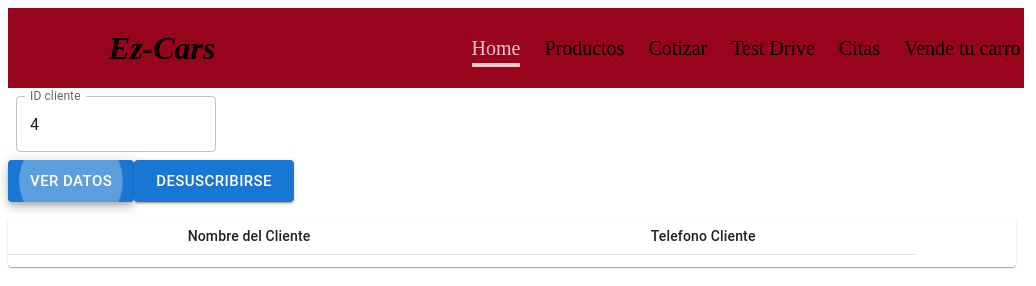
Test: Homepage test › Ingresar un ID y presionar el boton de desuscribirse
In the element with test id "inputHome": (116, 124) [16,96,216,152], type "8"
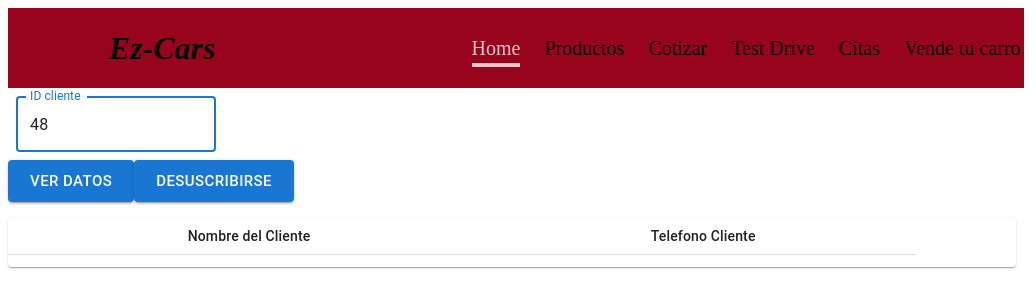
Click the button with test id "btnDelete": (214, 181) [134,160,294,202]
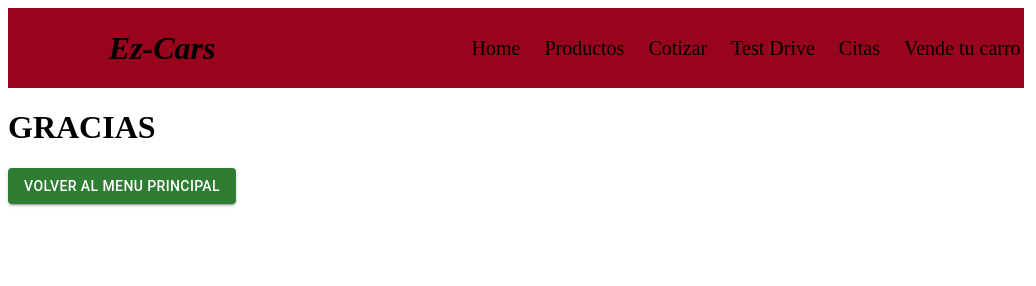
expect the heading "GRACIAS" is shown: met, box [8,109,156,145]
